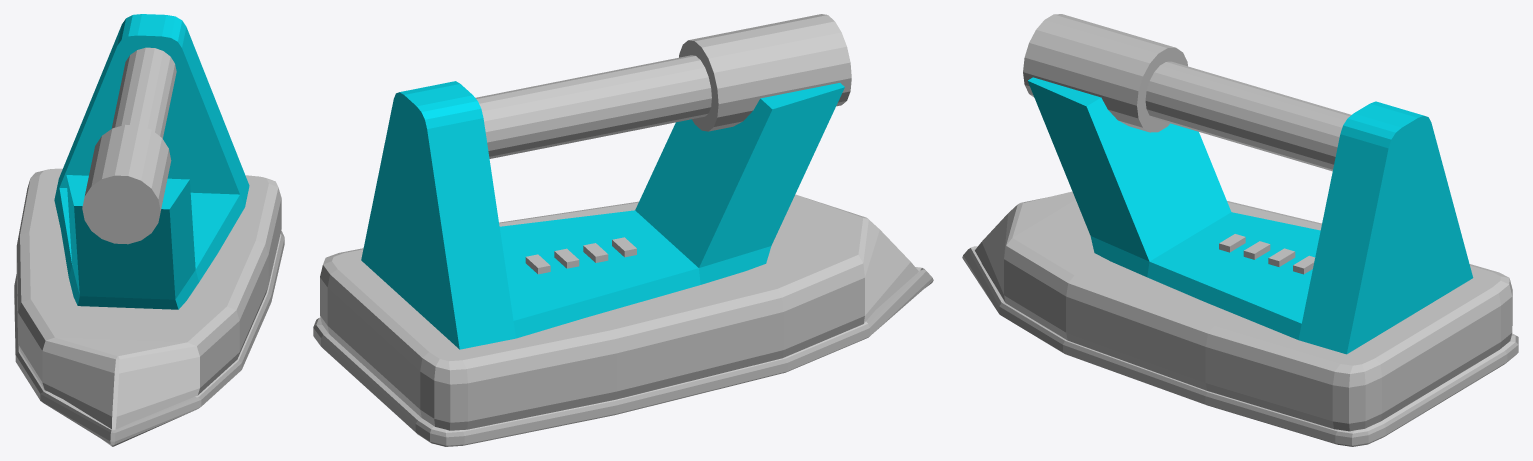
Rendered from Clothes iron.gltf.
3 views of the same model, side by side, from view 1: azimuth 30°, elevation 25°; view 2: azimuth 150°, elevation 25°; view 3: azimuth 270°, elevation 25° (orthographic). The views are drawn at different scales.
Parts seen in each view (by area): view 1: node-0; view 2: node-0; view 3: node-0.
Part boxes in pixels (left/top/right/bottom): node-0: left=14, top=14, right=284, bottom=446; node-0: left=313, top=14, right=933, bottom=446; node-0: left=962, top=14, right=1518, bottom=446.
Bounding box in the file's own units: 2708909 × 1739094 × 3254214.
